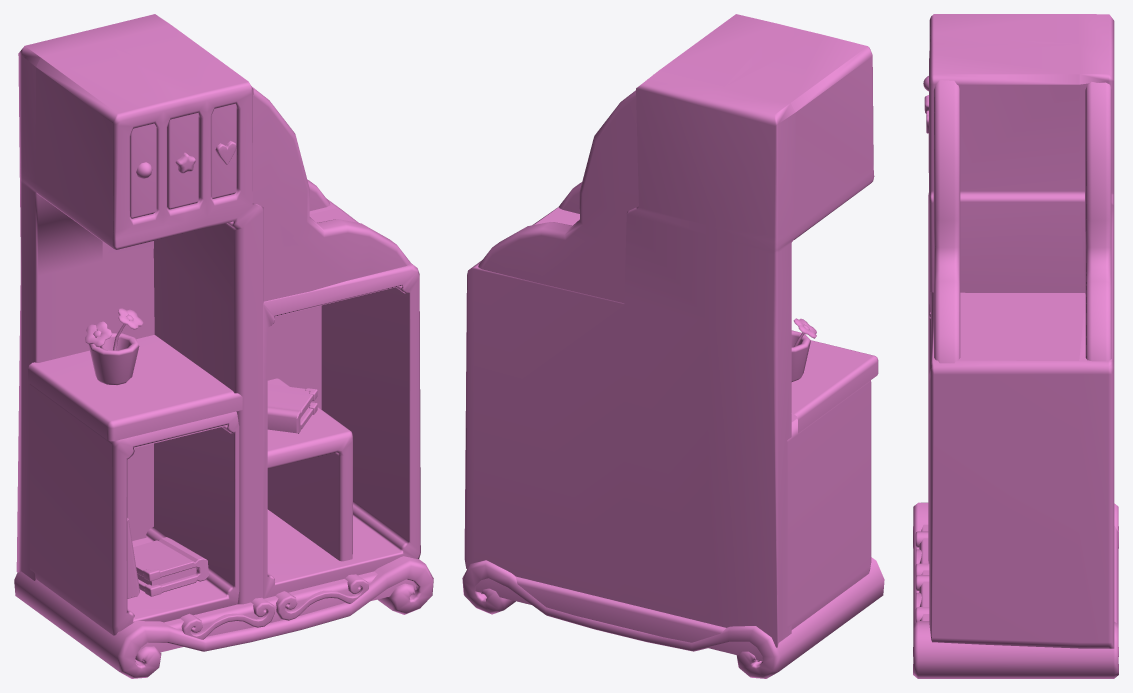
Rendered from ENV_HAU_BOOKSHELF_MODEL.fbx.
3 renders of one model, left to right at view 1: azimuth 30°, elevation 25°; view 2: azimuth 150°, elevation 25°; view 3: azimuth 270°, elevation 25°, orthographic. The views are drawn at different scales.
Visible parts, largest first — view 1: ENV_HAU_BOOKSHELF_MODEL; view 2: ENV_HAU_BOOKSHELF_MODEL; view 3: ENV_HAU_BOOKSHELF_MODEL.
Part boxes in pixels (x1,y1,x2,y2): ENV_HAU_BOOKSHELF_MODEL: (14, 14, 433, 678); ENV_HAU_BOOKSHELF_MODEL: (462, 14, 884, 678); ENV_HAU_BOOKSHELF_MODEL: (913, 14, 1118, 678).
Bounding box in the file's own units: 99.74 × 169 × 59.22.
